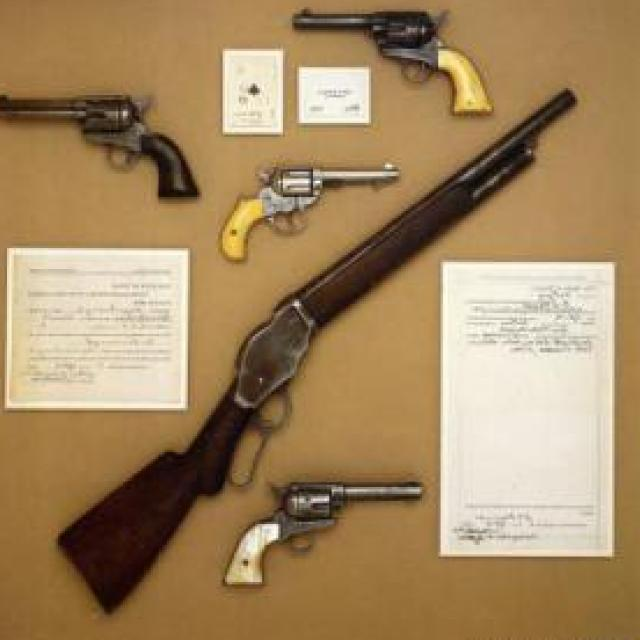pistol: (226, 471, 427, 586), (293, 2, 494, 116), (0, 90, 202, 200), (218, 162, 399, 261)
